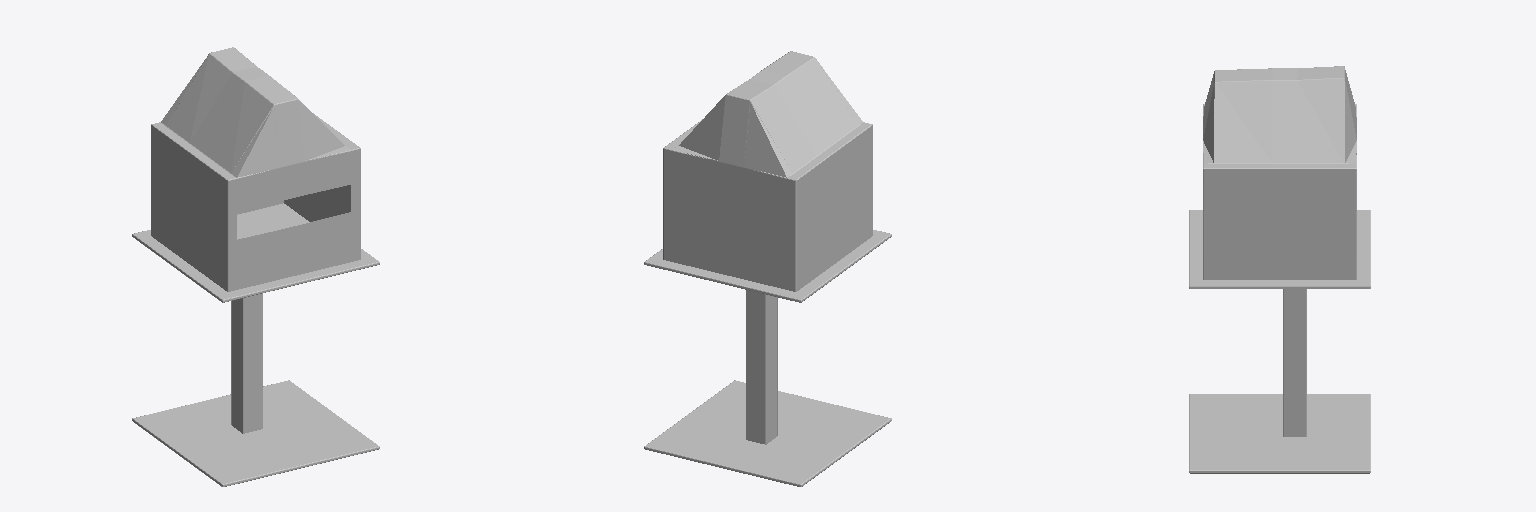
Rendered from Mail box 001.obj.
3 views of the same model, side by side, from view 1: azimuth 30°, elevation 25°; view 2: azimuth 150°, elevation 25°; view 3: azimuth 270°, elevation 25° (orthographic).
Parts seen in each view (by area): view 1: pCube51; view 2: pCube51; view 3: pCube51.
Part boxes in pixels (bbox=[...]): pCube51: bbox=[132, 47, 379, 486]; pCube51: bbox=[644, 51, 891, 486]; pCube51: bbox=[1189, 66, 1370, 473].
Bounding box in the file's own units: 0.0386 × 0.0859 × 0.0386.